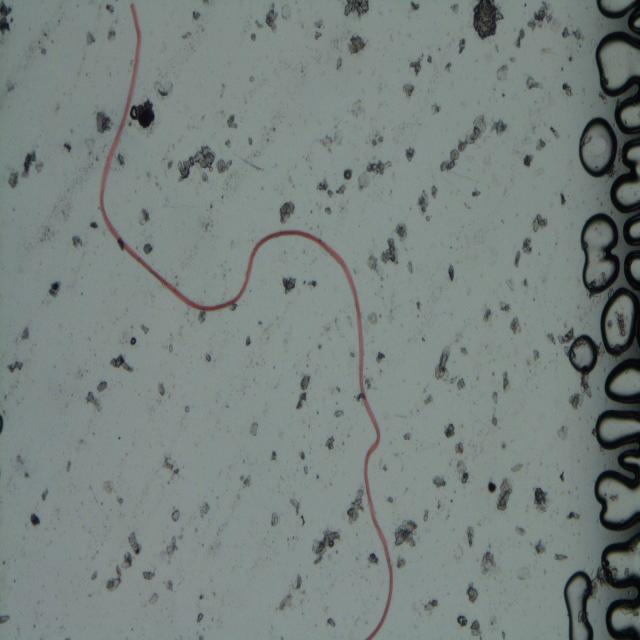Air bubble: (595, 448, 640, 533), (578, 212, 622, 296), (596, 32, 640, 96), (577, 114, 619, 180), (600, 289, 640, 357), (600, 532, 640, 592), (610, 137, 640, 210), (564, 571, 596, 639), (596, 409, 640, 450), (603, 359, 640, 405), (605, 592, 640, 638), (568, 334, 599, 375), (611, 96, 640, 134), (594, 1, 640, 21), (623, 247, 640, 286), (623, 212, 640, 245), (628, 9, 640, 33)
Background material: (439, 114, 490, 173), (175, 142, 216, 181), (434, 345, 469, 390), (472, 2, 506, 42), (526, 1, 564, 35), (358, 156, 393, 192), (312, 524, 339, 568), (565, 373, 595, 412), (276, 574, 306, 612), (28, 21, 60, 53), (393, 516, 422, 551), (488, 473, 512, 514), (265, 1, 291, 38), (345, 483, 366, 527), (120, 530, 142, 570), (130, 100, 156, 132), (20, 149, 44, 179), (454, 441, 470, 486), (414, 190, 434, 224), (457, 612, 483, 638), (318, 129, 347, 152), (313, 178, 348, 197), (531, 483, 551, 516), (163, 456, 184, 486), (380, 236, 400, 266), (106, 355, 135, 375), (523, 70, 547, 94), (423, 95, 445, 121), (548, 325, 576, 345), (104, 565, 124, 593), (160, 534, 178, 565), (343, 0, 372, 19), (277, 271, 299, 296), (0, 0, 15, 36), (278, 199, 298, 226), (154, 77, 176, 100), (296, 443, 311, 476), (297, 371, 310, 409), (237, 463, 255, 490), (489, 114, 512, 135), (95, 109, 113, 135), (478, 549, 496, 575), (558, 25, 584, 42), (349, 32, 367, 56), (462, 524, 478, 550), (421, 592, 439, 615), (367, 128, 384, 152), (84, 390, 101, 414), (407, 53, 424, 77), (224, 110, 242, 132), (431, 471, 449, 492), (560, 77, 576, 100), (135, 205, 151, 228), (511, 29, 527, 52), (393, 221, 409, 244), (494, 60, 509, 84), (533, 211, 549, 233), (509, 313, 524, 336), (300, 275, 320, 292), (509, 455, 526, 475), (523, 348, 539, 369), (402, 143, 418, 163), (441, 420, 457, 440), (374, 341, 386, 367), (47, 279, 62, 299), (366, 252, 379, 275), (481, 303, 494, 326), (154, 379, 168, 400), (466, 584, 480, 605), (400, 424, 416, 442), (198, 502, 214, 520), (535, 534, 547, 558), (83, 131, 94, 157), (7, 359, 26, 374), (314, 16, 324, 44), (288, 495, 302, 515), (556, 421, 570, 441), (8, 170, 20, 193), (522, 236, 534, 259), (511, 248, 524, 269), (70, 232, 85, 250), (329, 406, 347, 421), (217, 156, 232, 174), (18, 324, 32, 342), (521, 152, 535, 170), (85, 28, 97, 48), (248, 420, 260, 440), (402, 80, 414, 100), (104, 1, 116, 20), (366, 552, 382, 566), (567, 508, 583, 522), (147, 589, 160, 606), (324, 433, 336, 451), (457, 35, 467, 56), (28, 513, 42, 528), (446, 262, 456, 283), (534, 137, 548, 152), (499, 298, 511, 315), (142, 568, 156, 582), (96, 383, 110, 397), (418, 392, 432, 406), (169, 509, 182, 524), (39, 486, 51, 502), (515, 522, 527, 538), (502, 372, 511, 393), (0, 610, 11, 627), (408, 1, 422, 14), (61, 457, 74, 471), (444, 59, 458, 72), (106, 28, 118, 43), (554, 550, 569, 562), (0, 410, 7, 435), (343, 167, 353, 184), (334, 56, 344, 73), (269, 512, 279, 529), (429, 183, 439, 200), (558, 190, 568, 207), (142, 241, 154, 255), (139, 322, 151, 336), (548, 127, 562, 139), (178, 29, 192, 41), (192, 8, 202, 24), (62, 142, 73, 156), (118, 154, 129, 168), (89, 568, 99, 582), (559, 467, 567, 484), (323, 205, 333, 218), (163, 580, 173, 593), (128, 338, 138, 350), (270, 448, 278, 462), (244, 336, 253, 348), (197, 611, 206, 622), (90, 221, 100, 230), (204, 352, 213, 362), (494, 389, 499, 403), (490, 421, 500, 427)
Microfibre: (100, 2, 393, 638)
